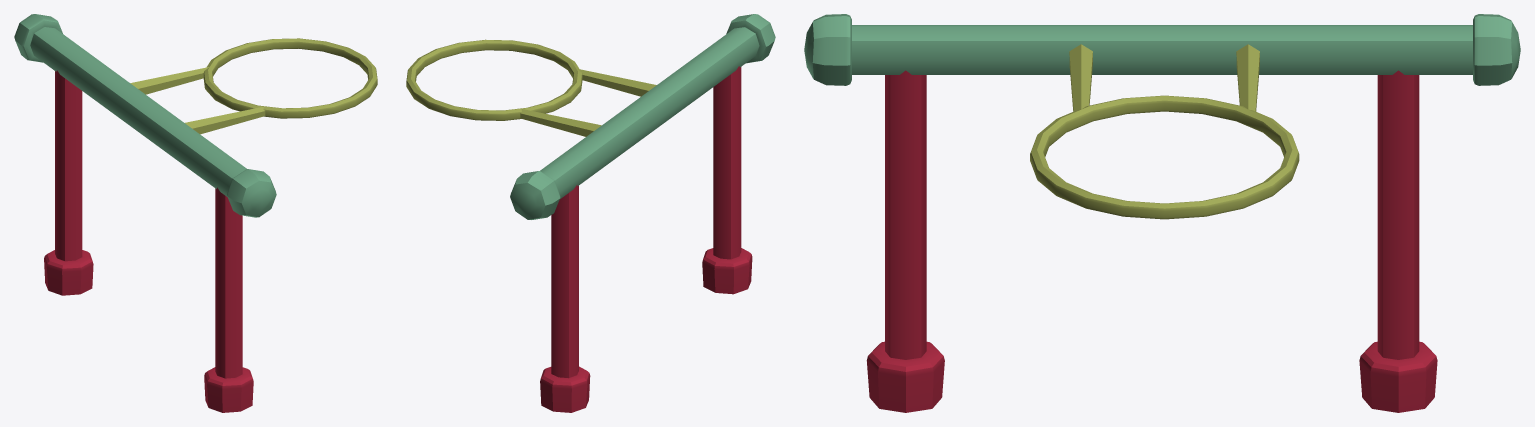
The model's file is Hoop.fbx.
3 views of the same model, side by side, from view 1: azimuth 30°, elevation 25°; view 2: azimuth 150°, elevation 25°; view 3: azimuth 270°, elevation 25° (orthographic). The views are drawn at different scales.
Parts seen in each view (by area): view 1: pCube10; view 2: pCube10; view 3: pCube10.
Part boxes in pixels (x1,y1,x2,y2): pCube10: [14, 14, 377, 412]; pCube10: [406, 14, 775, 412]; pCube10: [804, 14, 1520, 412].
Bounding box in the file's own units: 103 × 100 × 170.
